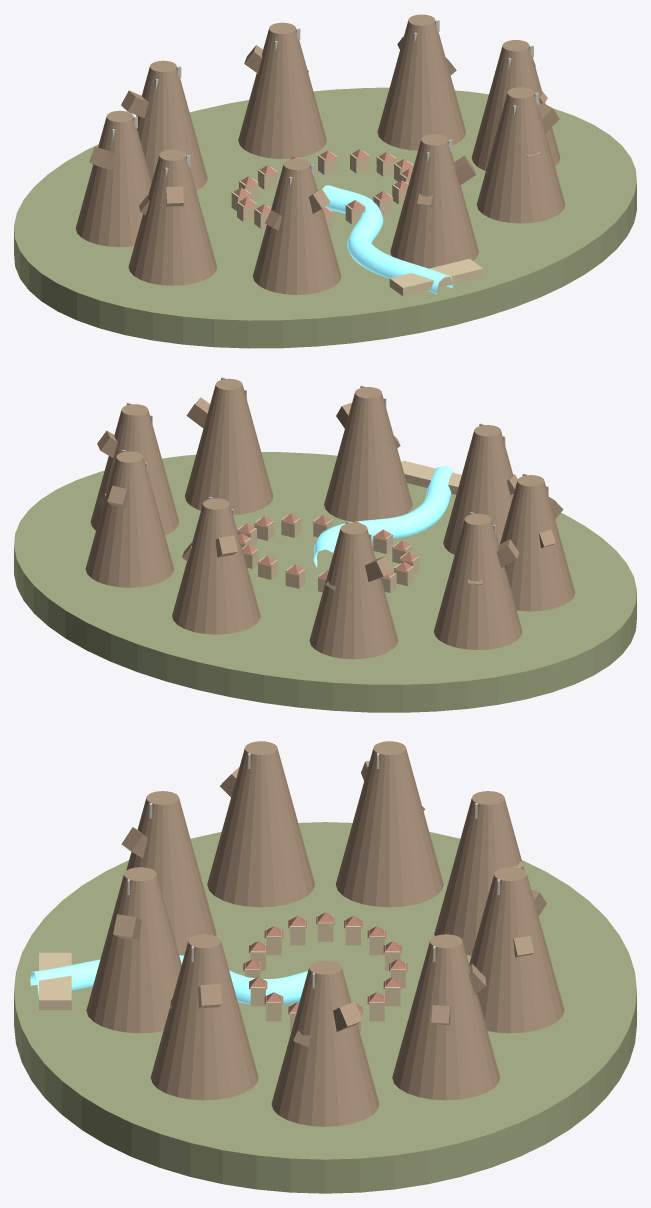
The model's file is cactus-island-whisky-peak.glb.
3 renders of one model, top to bottom at view 1: azimuth 30°, elevation 25°; view 2: azimuth 150°, elevation 25°; view 3: azimuth 270°, elevation 25°, orthographic. The views are drawn at different scales.
Parts seen in each view (by area): view 1: Cactus Island, Sapoten grave mountain 09, Sapoten grave mountain 03, Sapoten grave mountain 06, Sapoten grave mountain 07, Sapoten grave mountain 02, Sapoten grave mountain 08, Sapoten grave mountain 05, Sapoten grave mountain 04, Sapoten grave mountain 01, Arrival river, River dock (+1 smaller); view 2: Cactus Island, Sapoten grave mountain 05, Sapoten grave mountain 08, Sapoten grave mountain 04, Sapoten grave mountain 02, Sapoten grave mountain 03, Sapoten grave mountain 09, Sapoten grave mountain 06, Sapoten grave mountain 07, Sapoten grave mountain 01, Arrival river, River dock (+1 smaller); view 3: Cactus Island, Sapoten grave mountain 06, Sapoten grave mountain 05, Sapoten grave mountain 02, Sapoten grave mountain 09, Sapoten grave mountain 01, Sapoten grave mountain 08, Sapoten grave mountain 03, Sapoten grave mountain 04, Sapoten grave mountain 07, Arrival river, River dock.
Boxes of the visible parts, x1=… form: Cactus Island: x1=14, y1=87, x2=636, y2=348; Sapoten grave mountain 09: x1=476, y1=87, x2=565, y2=223; Sapoten grave mountain 03: x1=238, y1=22, x2=326, y2=158; Sapoten grave mountain 06: x1=128, y1=149, x2=216, y2=285; Sapoten grave mountain 07: x1=252, y1=158, x2=341, y2=294; Sapoten grave mountain 02: x1=377, y1=14, x2=465, y2=150; Sapoten grave mountain 08: x1=390, y1=134, x2=478, y2=268; Sapoten grave mountain 05: x1=75, y1=110, x2=151, y2=247; Sapoten grave mountain 04: x1=136, y1=60, x2=207, y2=190; Sapoten grave mountain 01: x1=471, y1=40, x2=560, y2=170; Arrival river: x1=322, y1=185, x2=453, y2=294; River dock: x1=389, y1=258, x2=483, y2=296; Cactus Island: x1=14, y1=452, x2=636, y2=712; Sapoten grave mountain 05: x1=433, y1=513, x2=522, y2=649; Sapoten grave mountain 08: x1=324, y1=387, x2=412, y2=521; Sapoten grave mountain 04: x1=309, y1=523, x2=398, y2=659; Sapoten grave mountain 02: x1=85, y1=451, x2=174, y2=587; Sapoten grave mountain 03: x1=172, y1=498, x2=260, y2=634; Sapoten grave mountain 09: x1=185, y1=378, x2=273, y2=514; Sapoten grave mountain 06: x1=500, y1=475, x2=575, y2=611; Sapoten grave mountain 07: x1=443, y1=425, x2=513, y2=554; Sapoten grave mountain 01: x1=90, y1=404, x2=179, y2=535; Arrival river: x1=313, y1=465, x2=454, y2=567; River dock: x1=401, y1=460, x2=461, y2=494; Cactus Island: x1=14, y1=822, x2=636, y2=1193; Sapoten grave mountain 06: x1=207, y1=741, x2=314, y2=907; Sapoten grave mountain 05: x1=336, y1=741, x2=443, y2=907; Sapoten grave mountain 02: x1=392, y1=934, x2=500, y2=1100; Sapoten grave mountain 09: x1=150, y1=934, x2=258, y2=1100; Sapoten grave mountain 01: x1=271, y1=961, x2=379, y2=1126; Sapoten grave mountain 08: x1=86, y1=867, x2=181, y2=1033; Sapoten grave mountain 03: x1=469, y1=867, x2=564, y2=1033; Sapoten grave mountain 04: x1=434, y1=791, x2=524, y2=955; Sapoten grave mountain 07: x1=126, y1=791, x2=216, y2=955; Arrival river: x1=30, y1=955, x2=307, y2=1005; River dock: x1=39, y1=952, x2=71, y2=1010.
Bounding box in the file's own units: 17 × 4.01 × 13.26.
